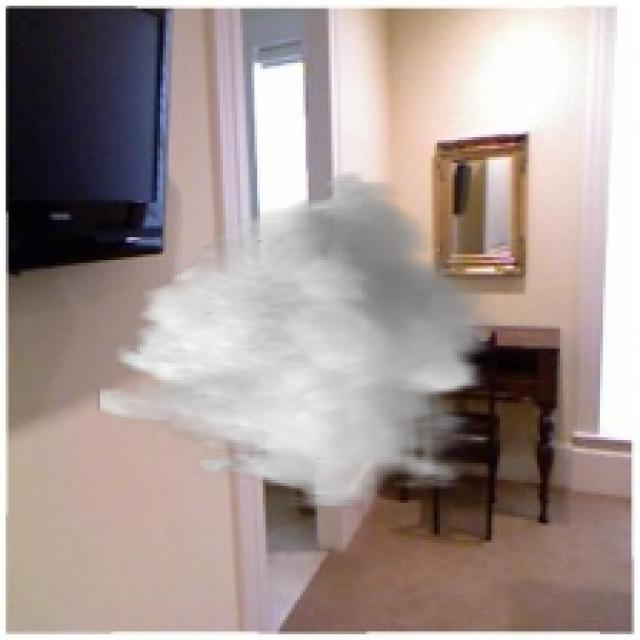Smoke: (97, 166, 497, 508)
